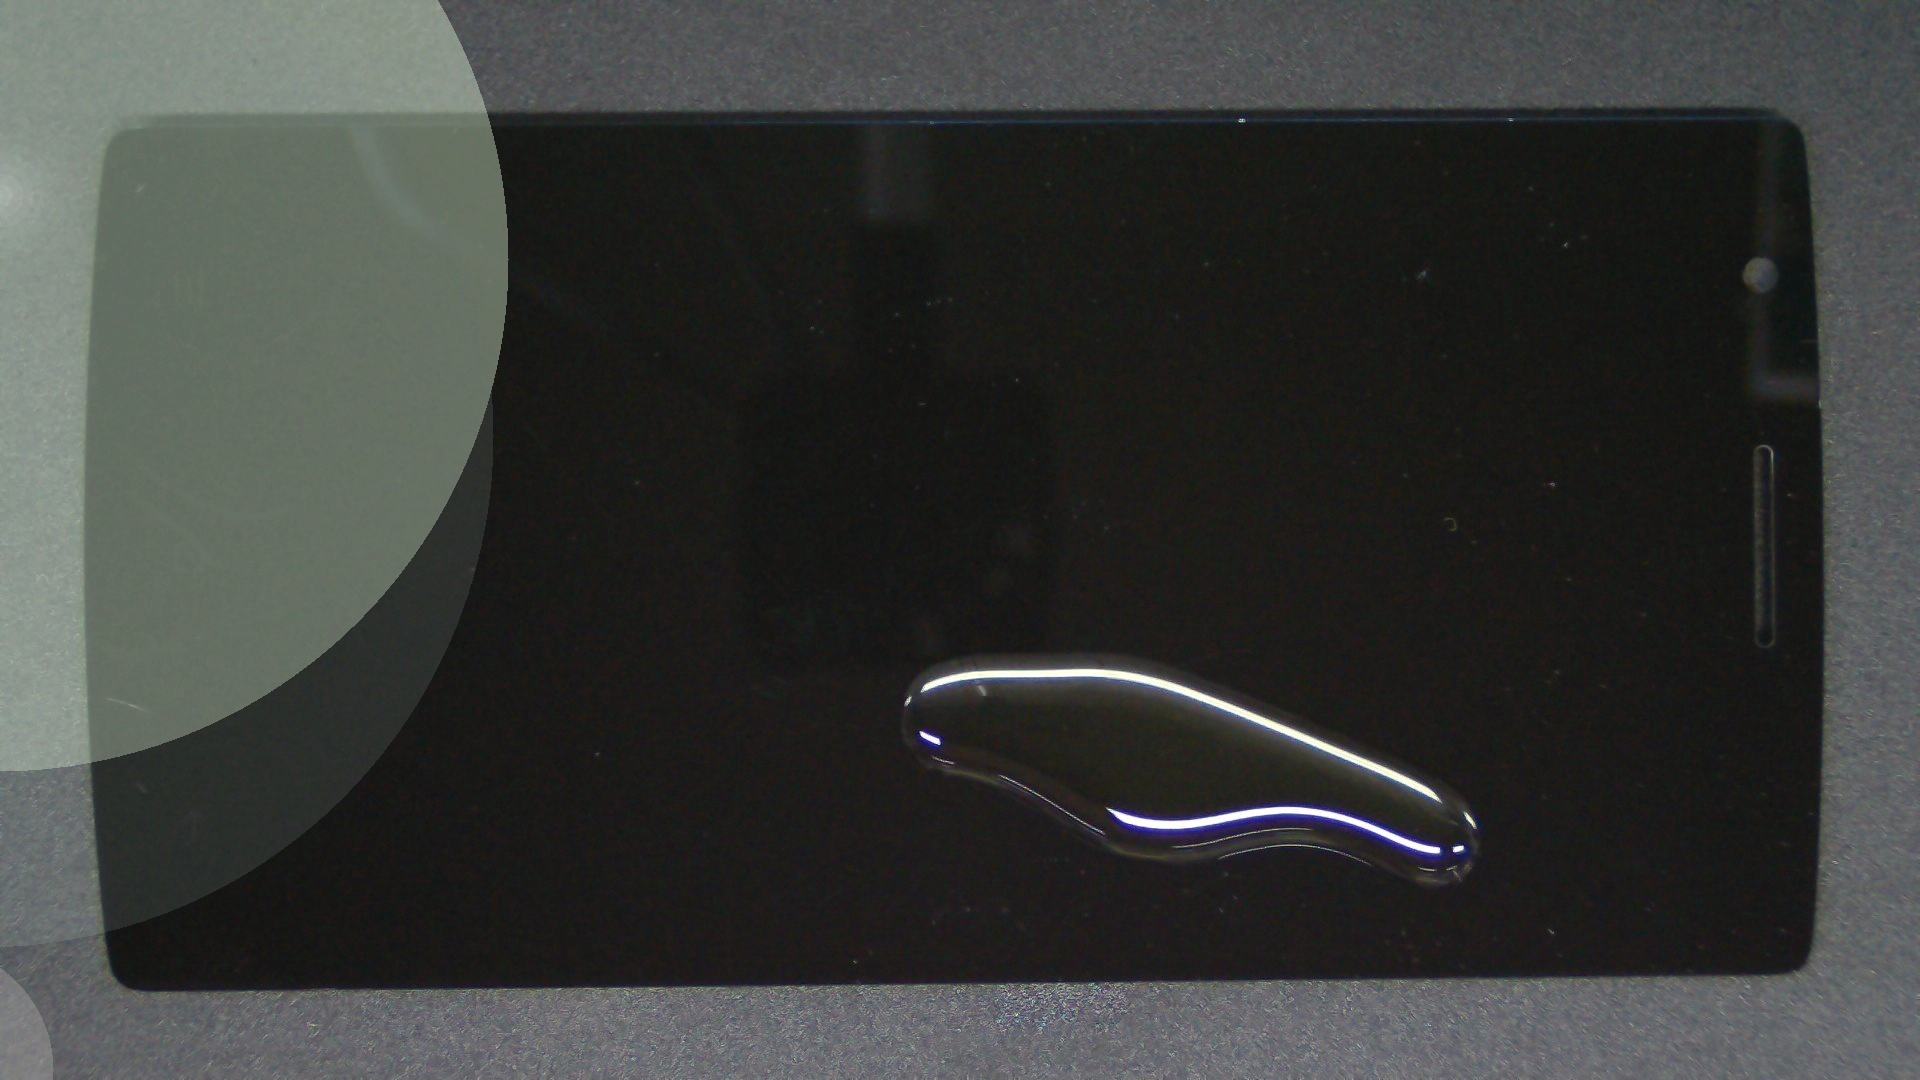oil: (500, 324, 1498, 977)
